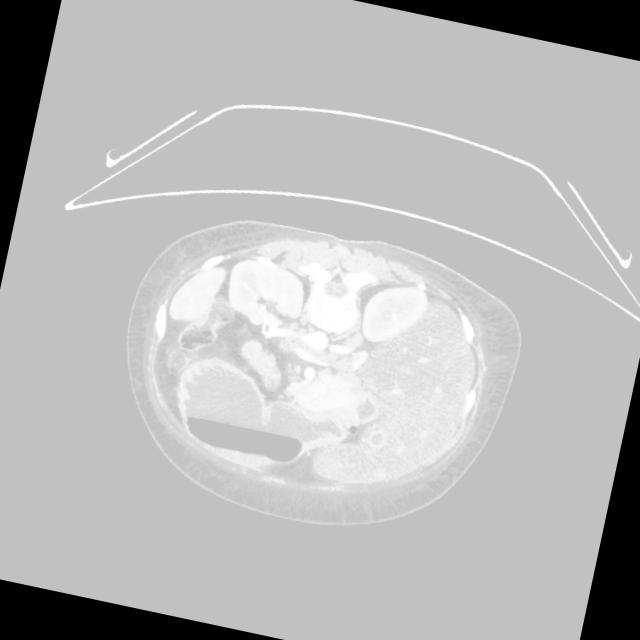NORMAL: (93, 194, 557, 540)
